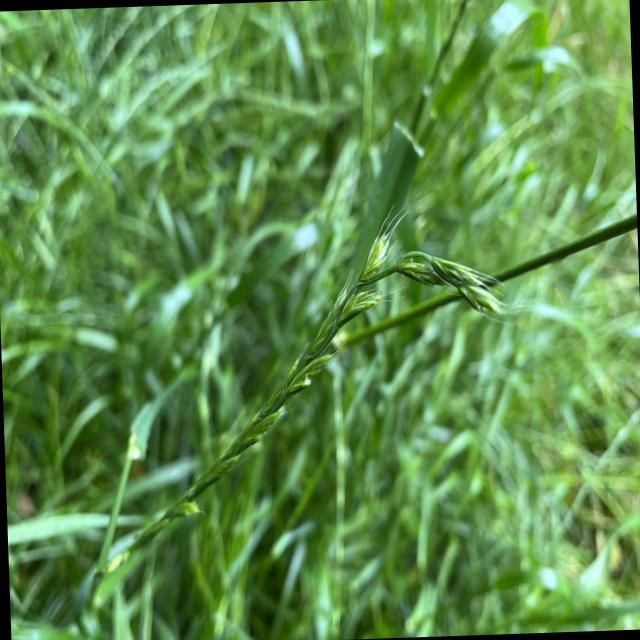Lolium: (87, 238, 524, 586)
